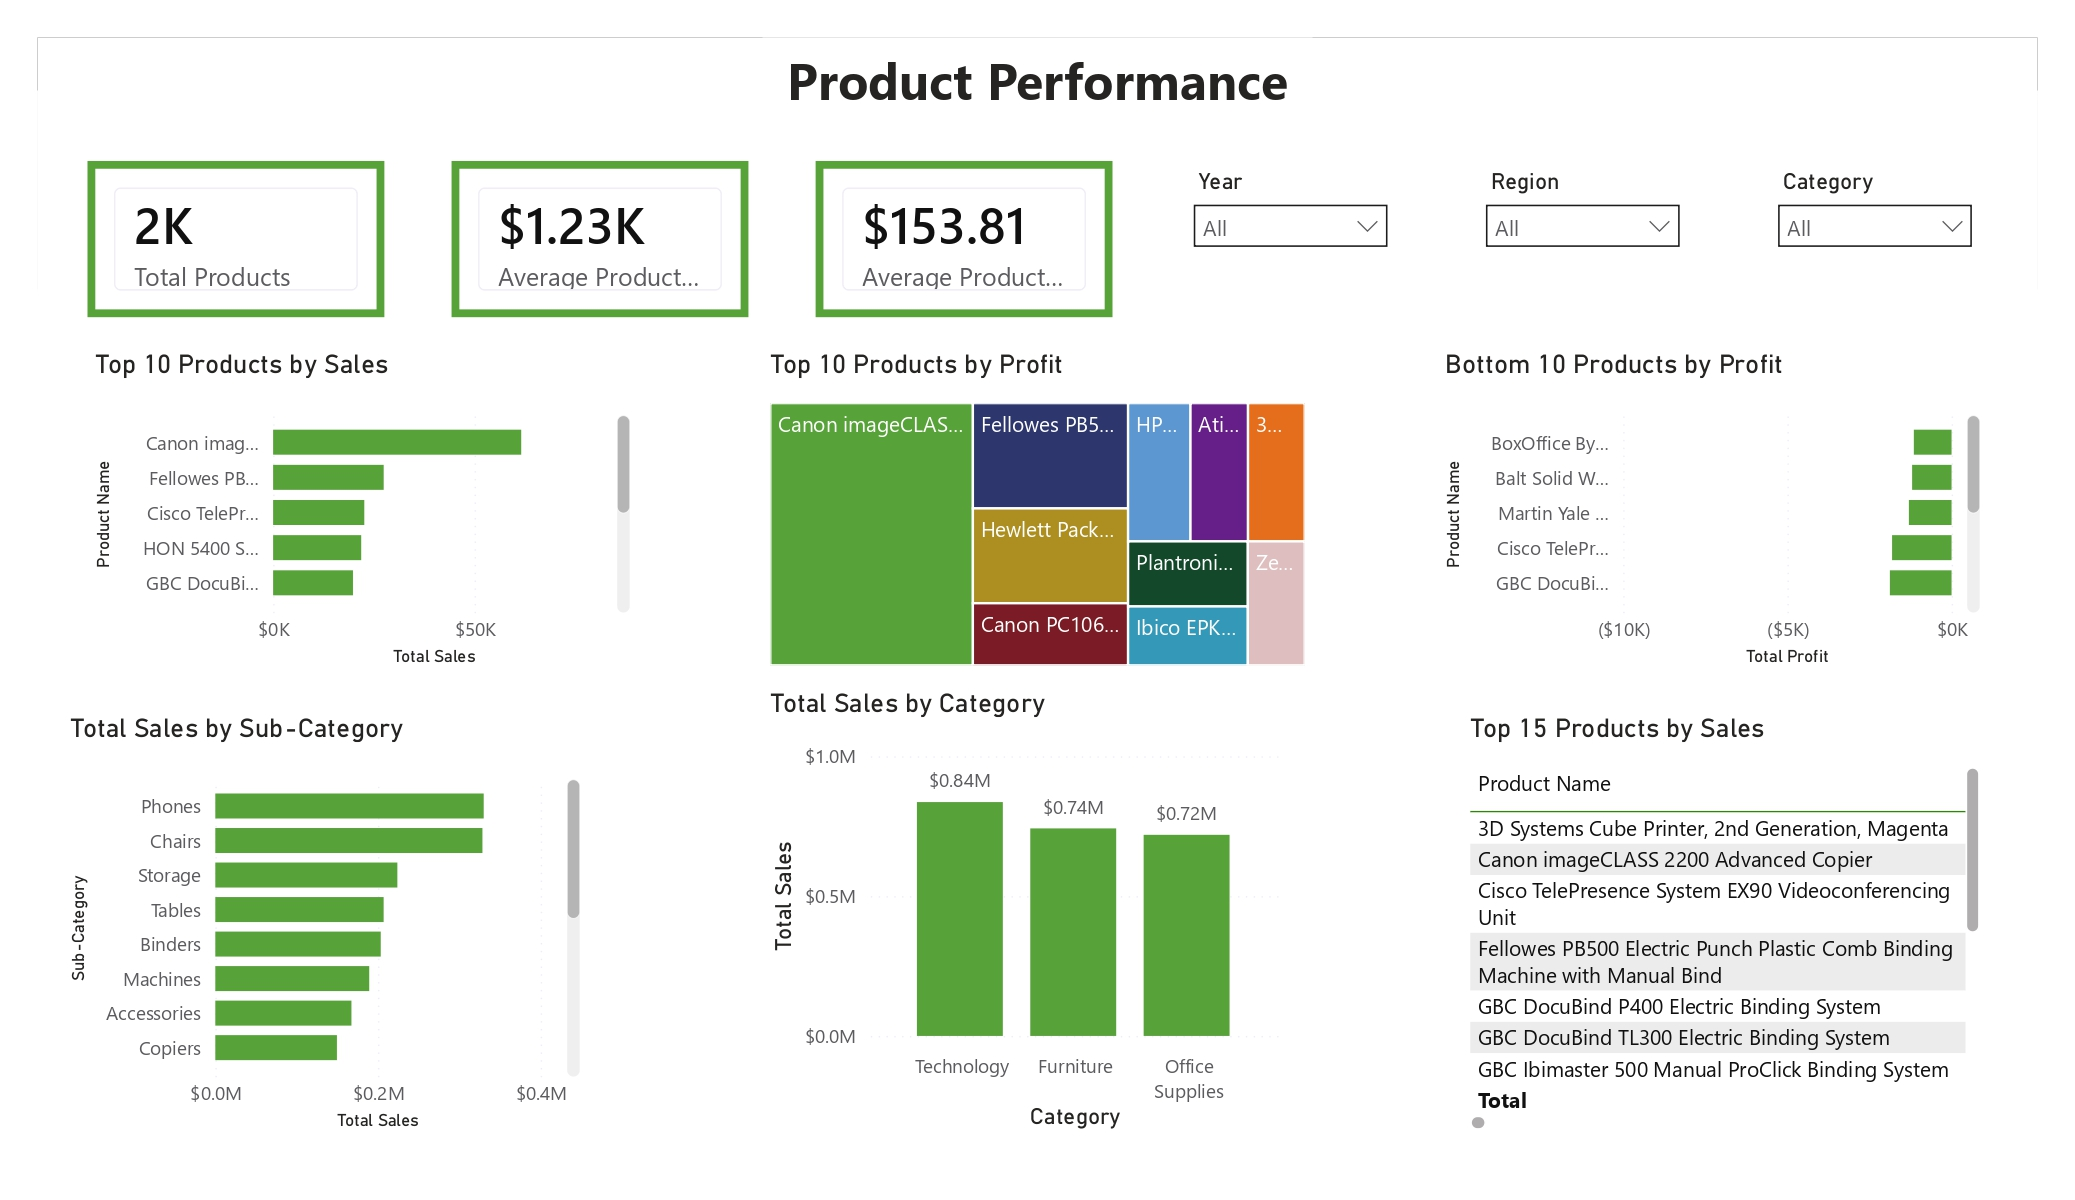

Layout of this report page (visuals, bound fields, positions):
{"tool":"powerbi","page":{"name":"Product Performance","canvas":[1280,720],"ordinal":5},"visuals":[{"type":"cardVisual","fields":{"Data":["orders.Total Products"]},"box":[32,79.2,190,100],"z":0},{"type":"cardVisual","fields":{"Data":["orders.Average Product Sales"]},"box":[264.8,79.2,190,100],"z":1000},{"type":"cardVisual","fields":{"Data":["orders.Average Product Profit"]},"box":[497.6,79.2,190,100],"z":2000},{"type":"slicer","fields":{"Values":["Date.Date Hierarchy.Year"]},"box":[730.4,79.2,144,64],"z":3000},{"type":"slicer","fields":{"Values":["orders.Region"]},"box":[917.2,79.2,144,64],"z":4000},{"type":"slicer","fields":{"Values":["orders.Category"]},"box":[1104,79.2,144,64],"z":5000},{"type":"clusteredBarChart","title":"Top 10 Products by Sales","fields":{"Category":["orders.Product Name"],"Y":["orders.Total Sales"]},"box":[32.2,199.2,352,208],"z":6000},{"type":"treemap","title":"Top 10 Products by Profit","fields":{"Group":["orders.Product Name"],"Values":["orders.Total Profit"]},"box":[464.2,199.2,352,208],"z":7000},{"type":"clusteredBarChart","title":"Bottom 10 Products by Profit","fields":{"Category":["orders.Product Name"],"Y":["orders.Total Profit"]},"box":[896.2,199.2,352,208],"z":8000},{"type":"clusteredColumnChart","fields":{"Category":["orders.Category"],"Y":["orders.Total Sales"]},"box":[464,416,336,288],"z":9000},{"type":"clusteredBarChart","fields":{"Category":["orders.Sub-Category"],"Y":["orders.Total Sales"]},"box":[16,432,336,272],"z":10000},{"type":"pivotTable","title":"Top 15 Products by Sales","fields":{"Rows":["orders.Product Name"],"Values":["orders.Total Sales","orders.Total Profit","orders.Average Discount"]},"box":[912,432,336,272],"z":11000},{"type":"textbox","box":[464,0,352,64],"z":11001}]}

Visuals, with their boxes on the page's 1280x720 design canvas (x1, y1, x2, y2). These are canvas units, not pixel positions in the 2075x1200 screenshot, which may show the page scaled, cropped or inside an application window:
cardVisual - orders.Total Products: (x1=32, y1=79, x2=222, y2=179)
cardVisual - orders.Average Product Sales: (x1=265, y1=79, x2=455, y2=179)
cardVisual - orders.Average Product Profit: (x1=498, y1=79, x2=688, y2=179)
slicer - Date.Date Hierarchy.Year: (x1=730, y1=79, x2=874, y2=143)
slicer - orders.Region: (x1=917, y1=79, x2=1061, y2=143)
slicer - orders.Category: (x1=1104, y1=79, x2=1248, y2=143)
"Top 10 Products by Sales" clusteredBarChart: (x1=32, y1=199, x2=384, y2=407)
"Top 10 Products by Profit" treemap: (x1=464, y1=199, x2=816, y2=407)
"Bottom 10 Products by Profit" clusteredBarChart: (x1=896, y1=199, x2=1248, y2=407)
clusteredColumnChart - orders.Category x orders.Total Sales: (x1=464, y1=416, x2=800, y2=704)
clusteredBarChart - orders.Sub-Category x orders.Total Sales: (x1=16, y1=432, x2=352, y2=704)
"Top 15 Products by Sales" pivotTable: (x1=912, y1=432, x2=1248, y2=704)
textbox: (x1=464, y1=0, x2=816, y2=64)
